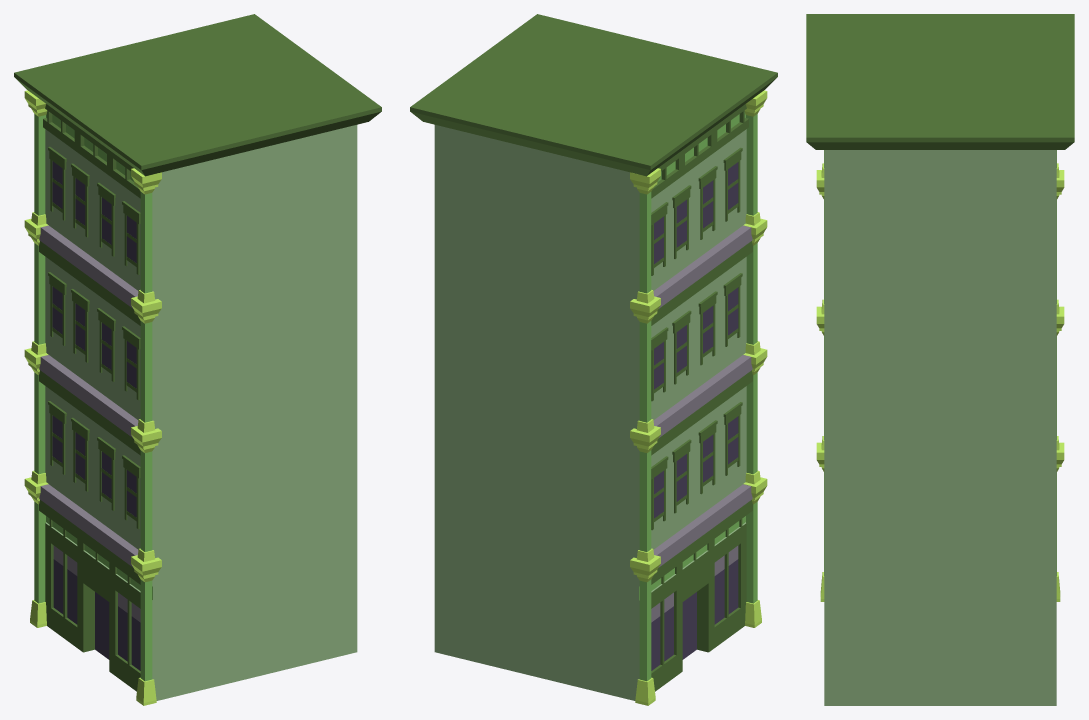
File: building 6 - green.fbx
3 renders of one model, left to right at view 1: azimuth 30°, elevation 25°; view 2: azimuth 150°, elevation 25°; view 3: azimuth 270°, elevation 25°, orthographic. The views are drawn at different scales.
Parts seen in each view (by area): view 1: pCube1, pCube2, pCube4, pCube3, pCube5, pCube6, pCube9, pCube8, pCube7; view 2: pCube1, pCube6, pCube8, pCube7, pCube9, pCube2, pCube5, pCube4, pCube3; view 3: pCube1.
Boxes of the visible parts, x1,y1,x2,y2 form: pCube1: (14,14,381,700); pCube2: (131,555,161,705); pCube4: (131,296,161,432); pCube3: (131,426,161,561); pCube5: (131,168,161,303); pCube6: (24,477,48,627); pCube9: (24,90,47,225); pCube8: (24,218,48,354); pCube7: (24,348,48,484); pCube1: (410,14,777,700); pCube6: (630,555,660,705); pCube8: (630,296,660,432); pCube7: (630,426,660,561); pCube9: (630,168,660,303); pCube2: (743,477,767,627); pCube5: (744,90,767,225); pCube4: (743,218,767,354); pCube3: (743,348,767,484); pCube1: (806,14,1074,705).
Size of the model in its own units: 10.13 by 22.03 by 9.29.
